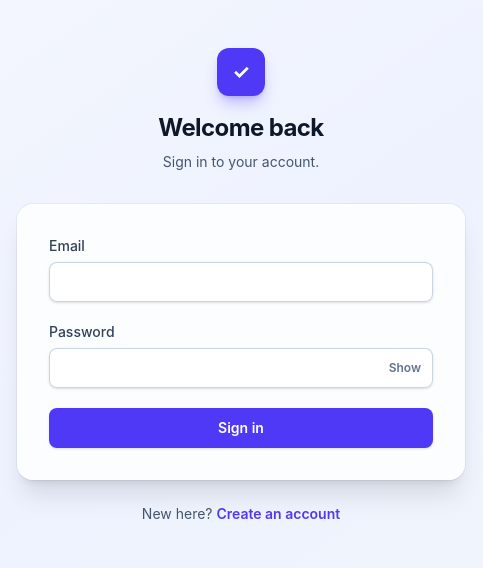
Test: Sign in page › shows a generic error for wrong credentials
The width and height of the screenshot is (483, 568).
Type "jane@example.com" into the field labelled "Email" at (241, 282), box [49,262,433,302]
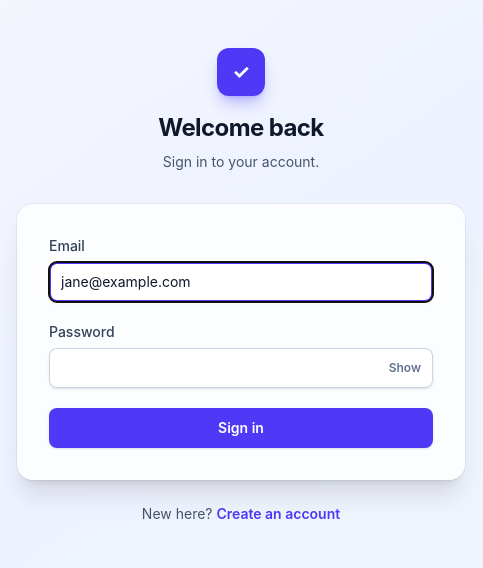
Type "wrong" into the password field labelled "Password" at (241, 368), box [49,348,433,388]
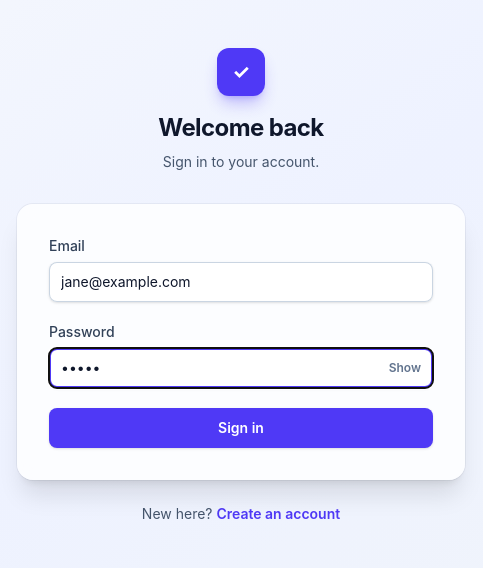
Click the button "Sign in" at (241, 428), box [49,408,433,448]
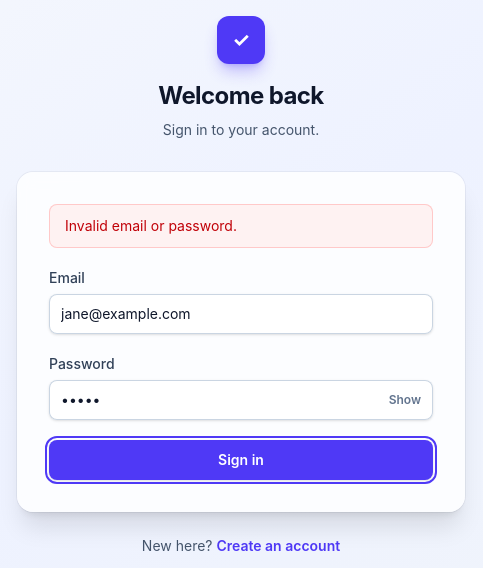
Result: the message reads "Invalid email or password." at [65,217,237,234]
